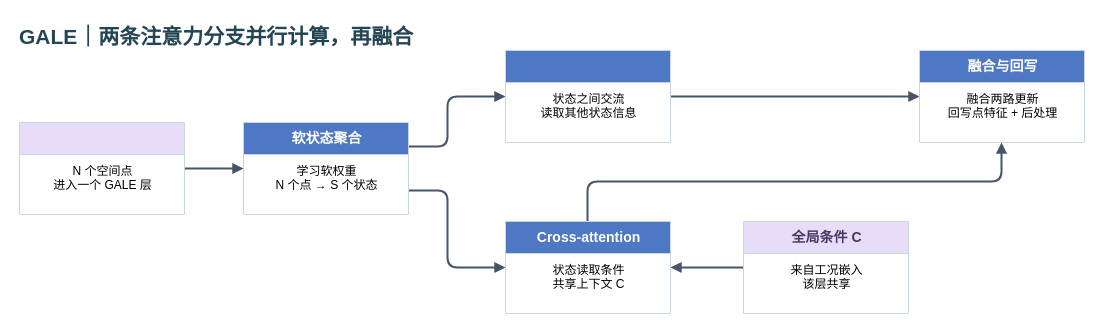
Some shapes in this 1104 by 331 pixel diagram are drawn without their labels. The box of each missing label's shape, as (x1, y1, x2, y2) in pixels:
Self-attention: (504, 50, 670, 142)
逐点特征: (18, 122, 184, 214)
